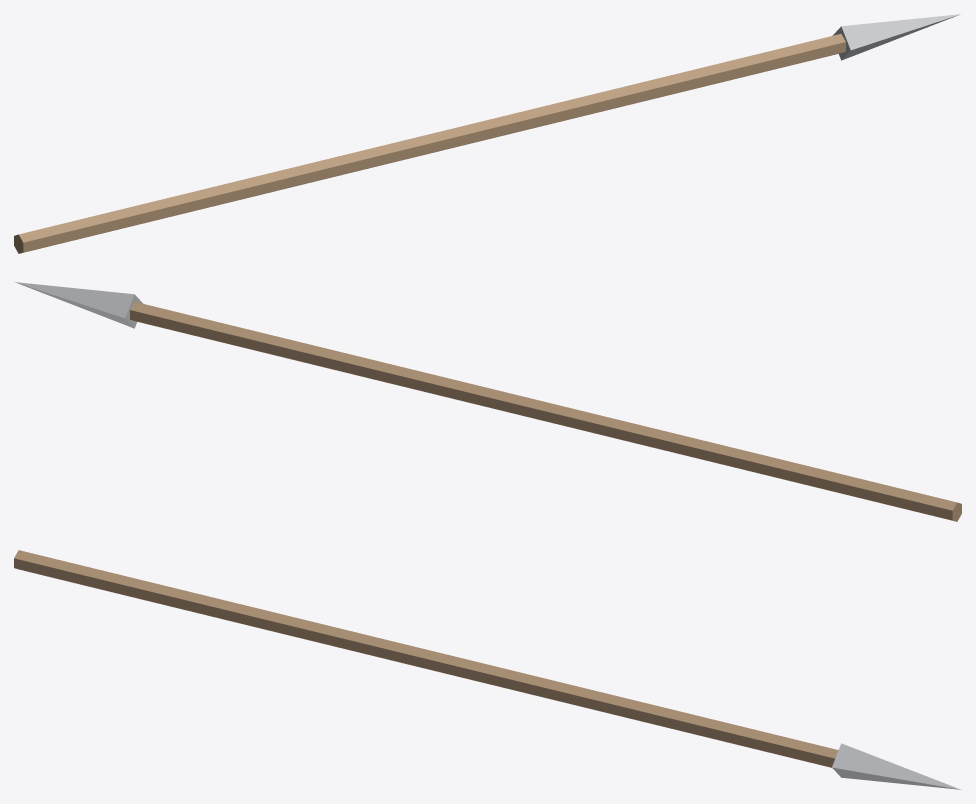
Rendered from held_weapon_spear.glb.
The picture shows the model from 3 angles, top to bottom: view 1: azimuth 30°, elevation 25°; view 2: azimuth 150°, elevation 25°; view 3: azimuth 330°, elevation 25°; orthographic projection.
Visible parts, largest first — view 1: held_weapon_spear; view 2: held_weapon_spear; view 3: held_weapon_spear.
Part boxes in pixels (bbox=[...]): held_weapon_spear: bbox=[14, 14, 961, 253]; held_weapon_spear: bbox=[14, 282, 961, 521]; held_weapon_spear: bbox=[14, 550, 961, 789].
Bounding box in the file's own units: 1.72 × 0.06 × 0.06.
